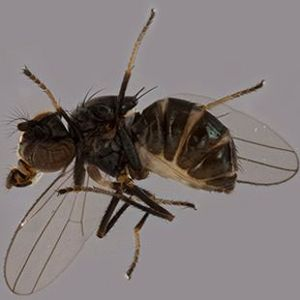Ephydridae: (1, 6, 299, 297)
